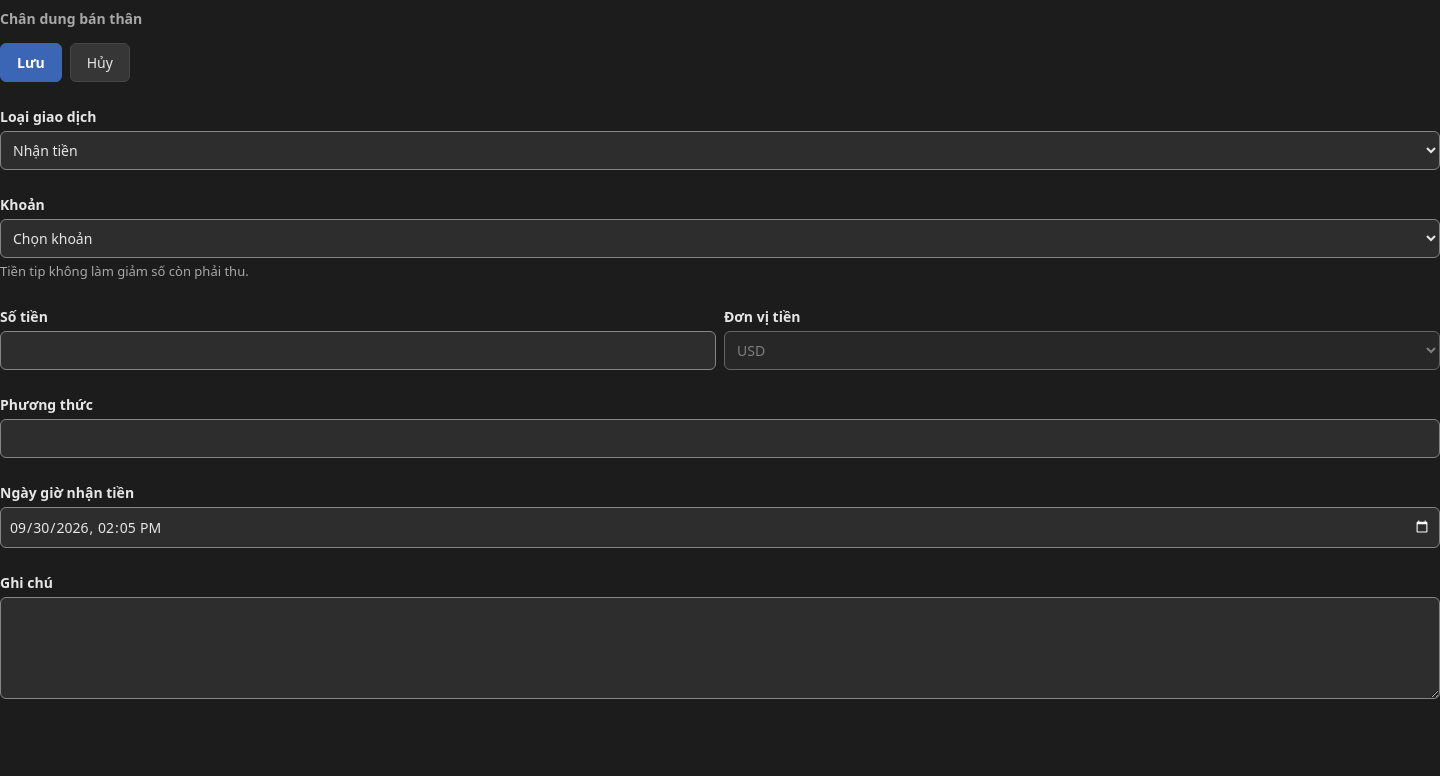
Test: page payment_form: saving › rejected system (400) → "Chưa lưu được" with the message; the draft kept; no field has the text cursor; no navigation
This screenshot has width=1440, height=776.
Check: the field labelled "Số tiền" is shown, box x1=0 y1=330 x2=716 y2=370
Select "Hoàn tiền cho khách" in the dropdown labelled "Loại giao dịch" at (720, 150), box x1=0 y1=131 x2=1439 y2=170
Select "Tiền tip" in the dropdown labelled "Khoản" at (720, 238), box x1=0 y1=219 x2=1439 y2=258
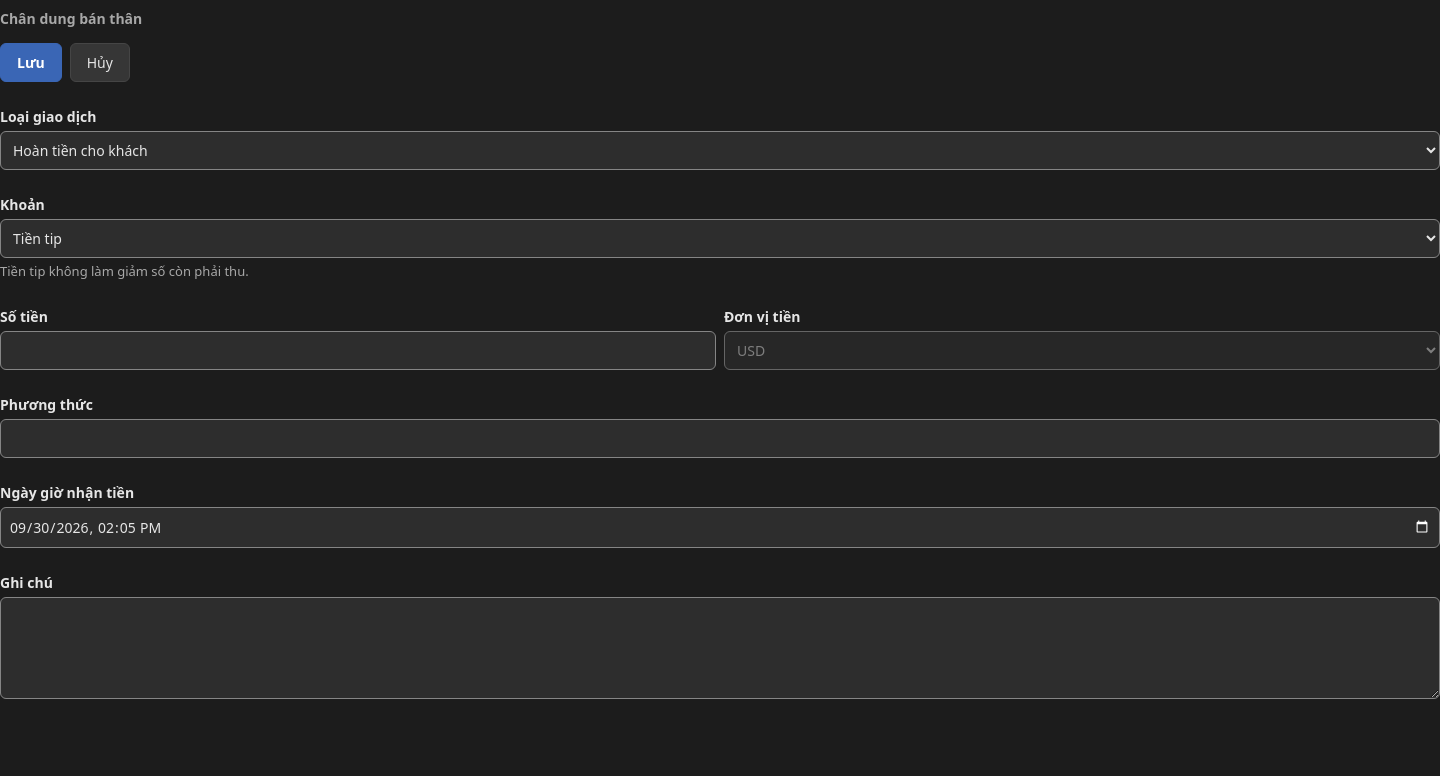
Type "12,50" into the field labelled "Số tiền" at (358, 350), box x1=0 y1=330 x2=716 y2=370
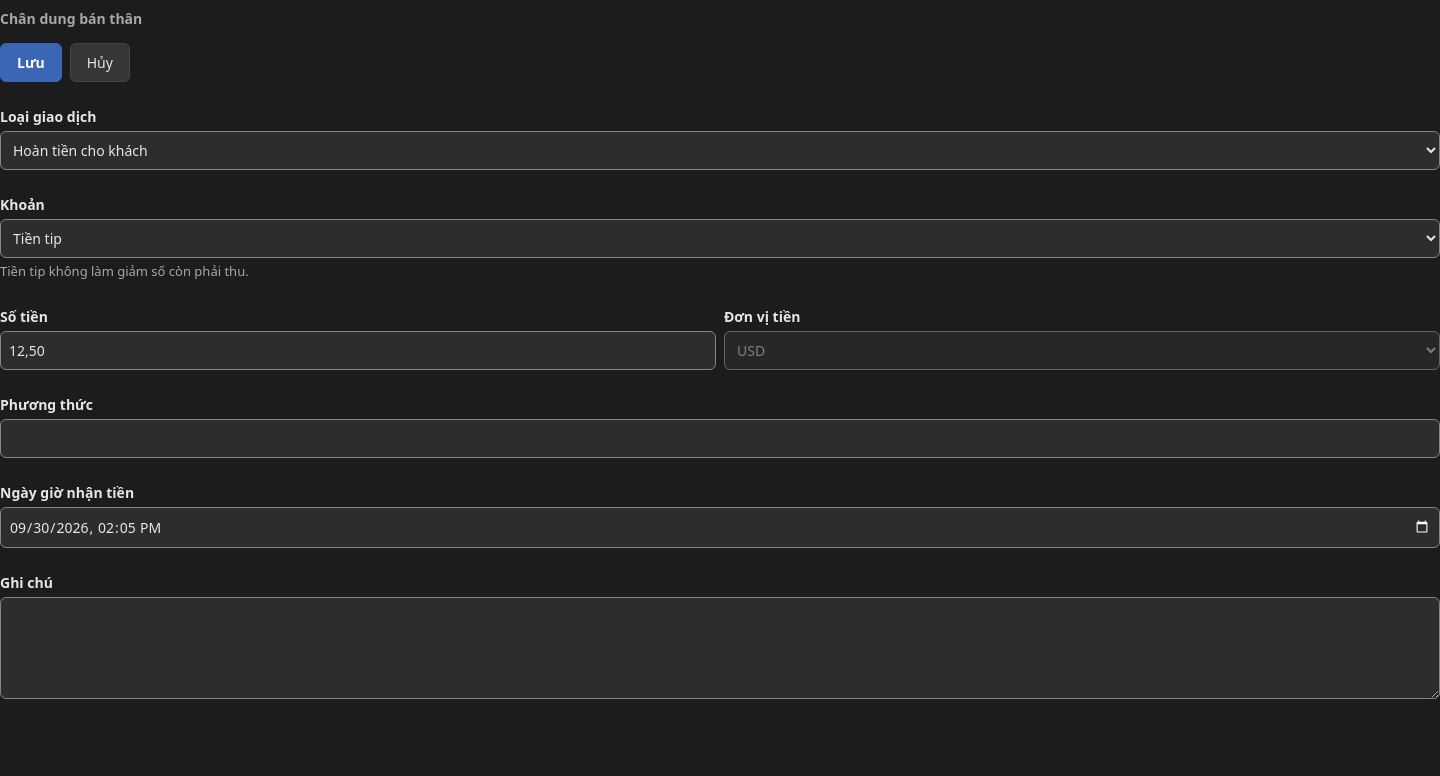
Type "PayPal" into the field labelled "Phương thức" at (720, 438), box x1=0 y1=418 x2=1439 y2=458
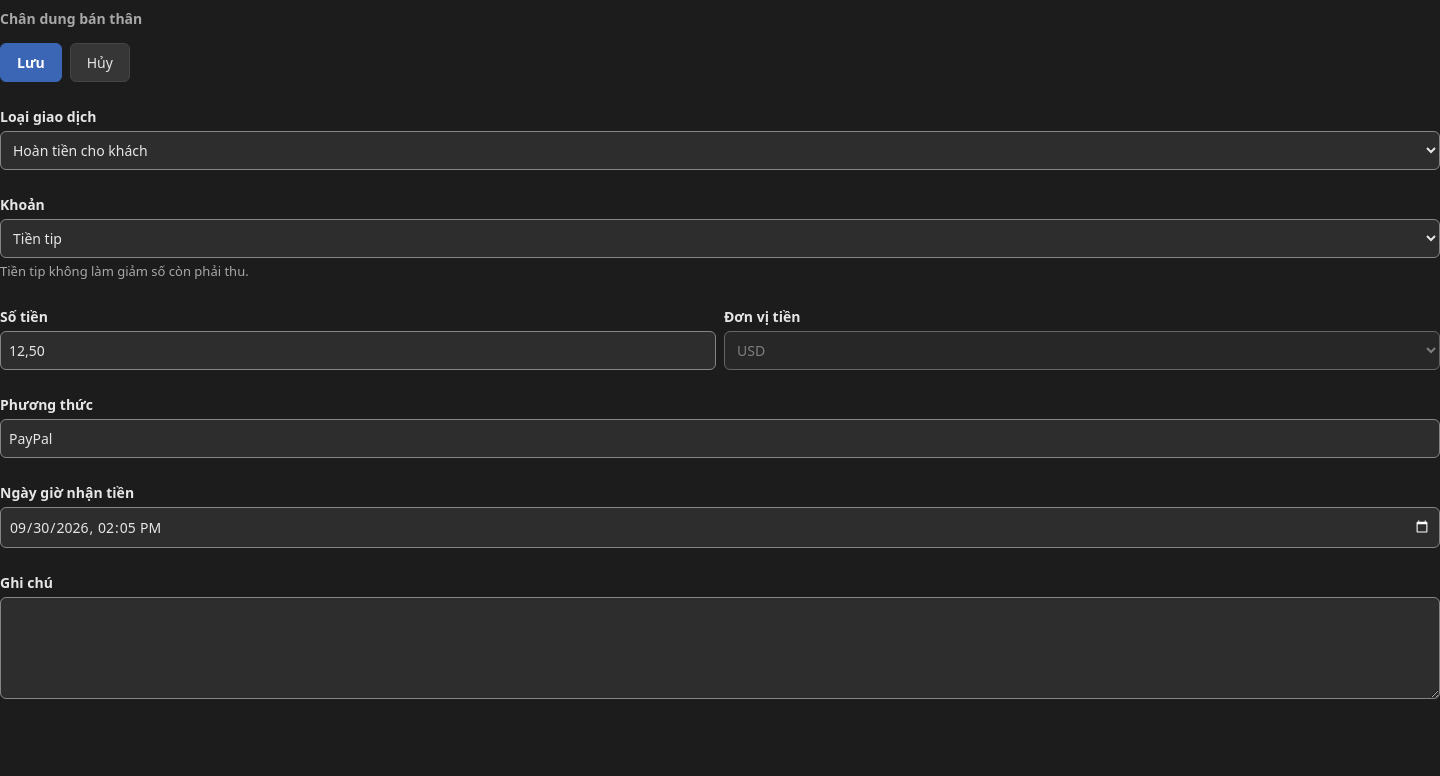
Replace the text in the field labelled "Ngày giờ nhận tiền" with "2026-09-28T08:30" at (720, 527), box x1=0 y1=506 x2=1439 y2=548
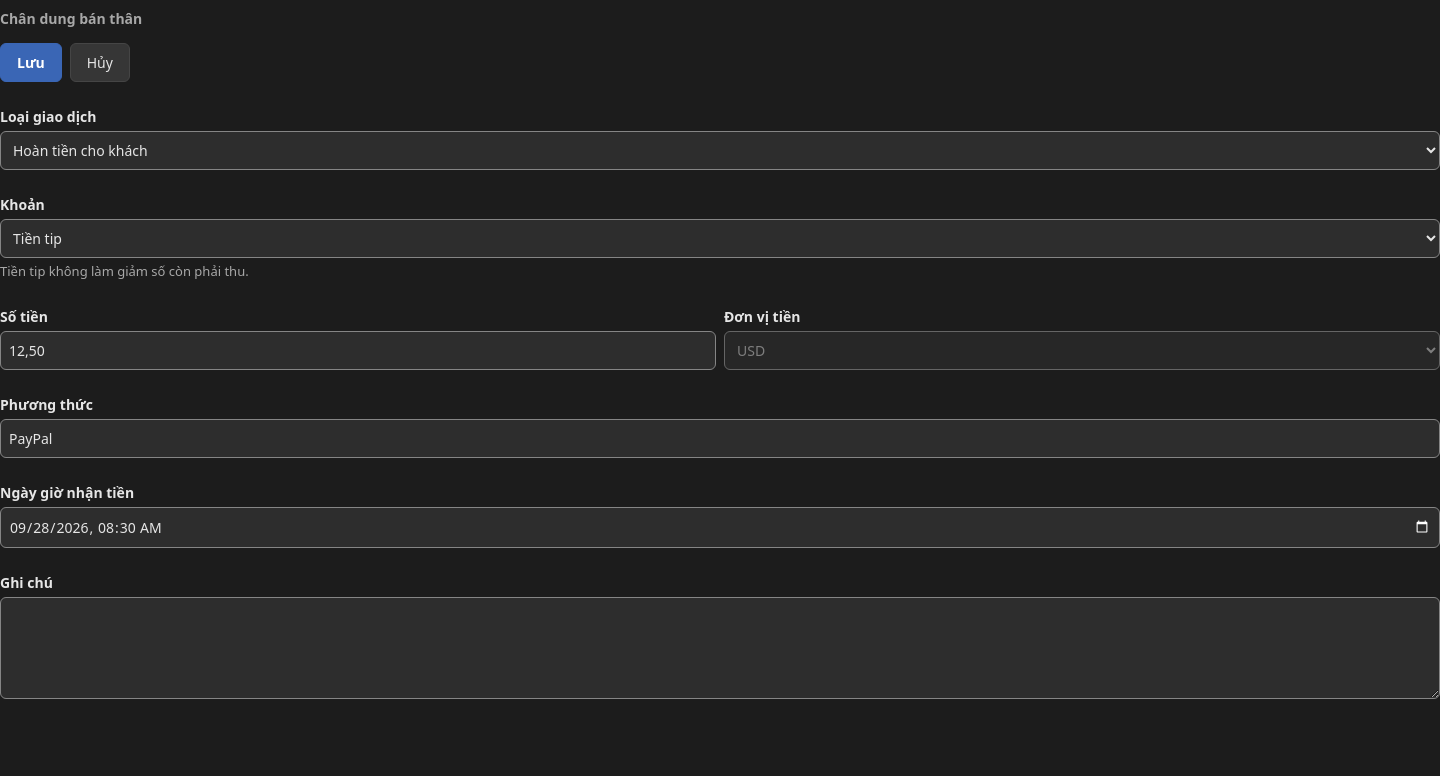
Type "Đợt hai" into the text box labelled "Ghi chú" at (720, 648), box x1=0 y1=596 x2=1439 y2=698
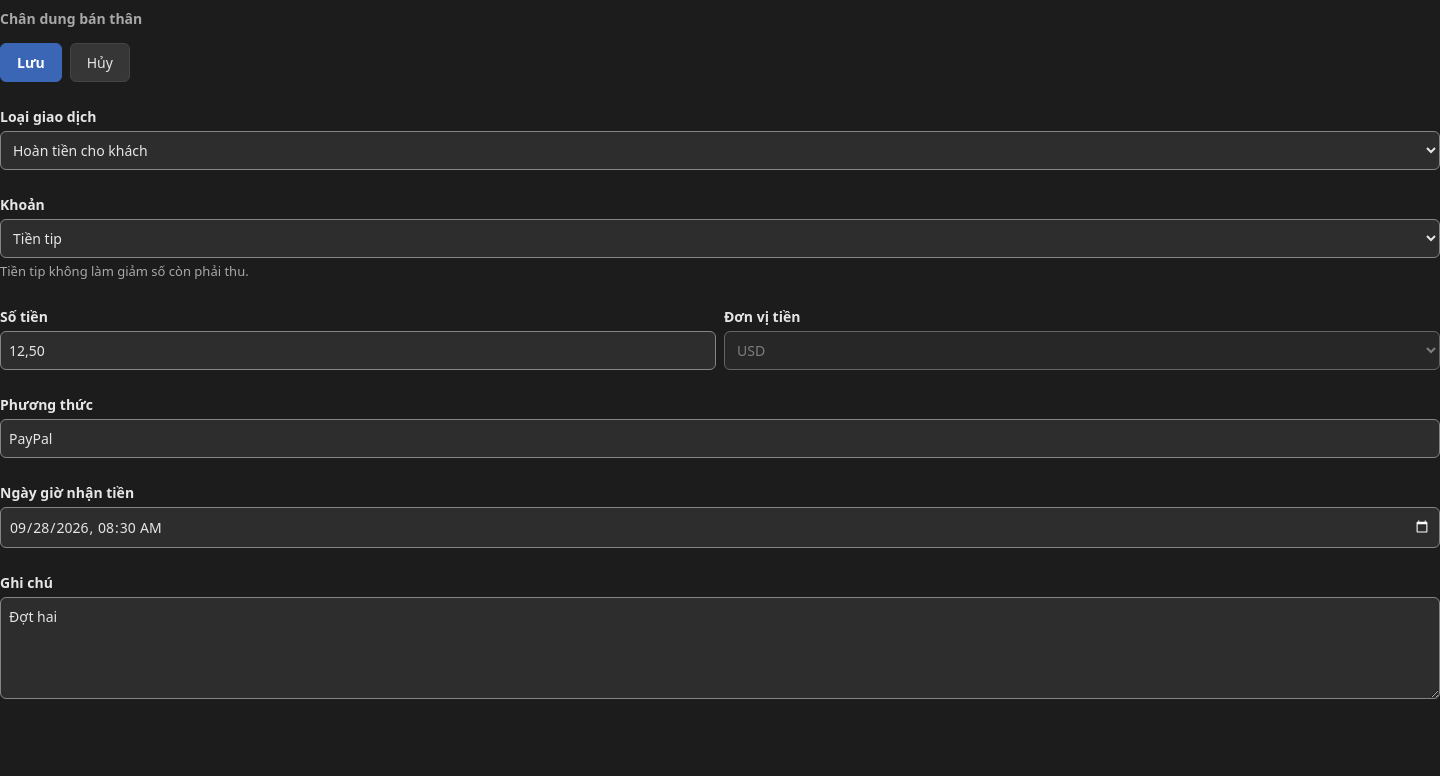
Click the button "Lưu" at (31, 62), box x1=0 y1=43 x2=62 y2=82
(page scrolled)
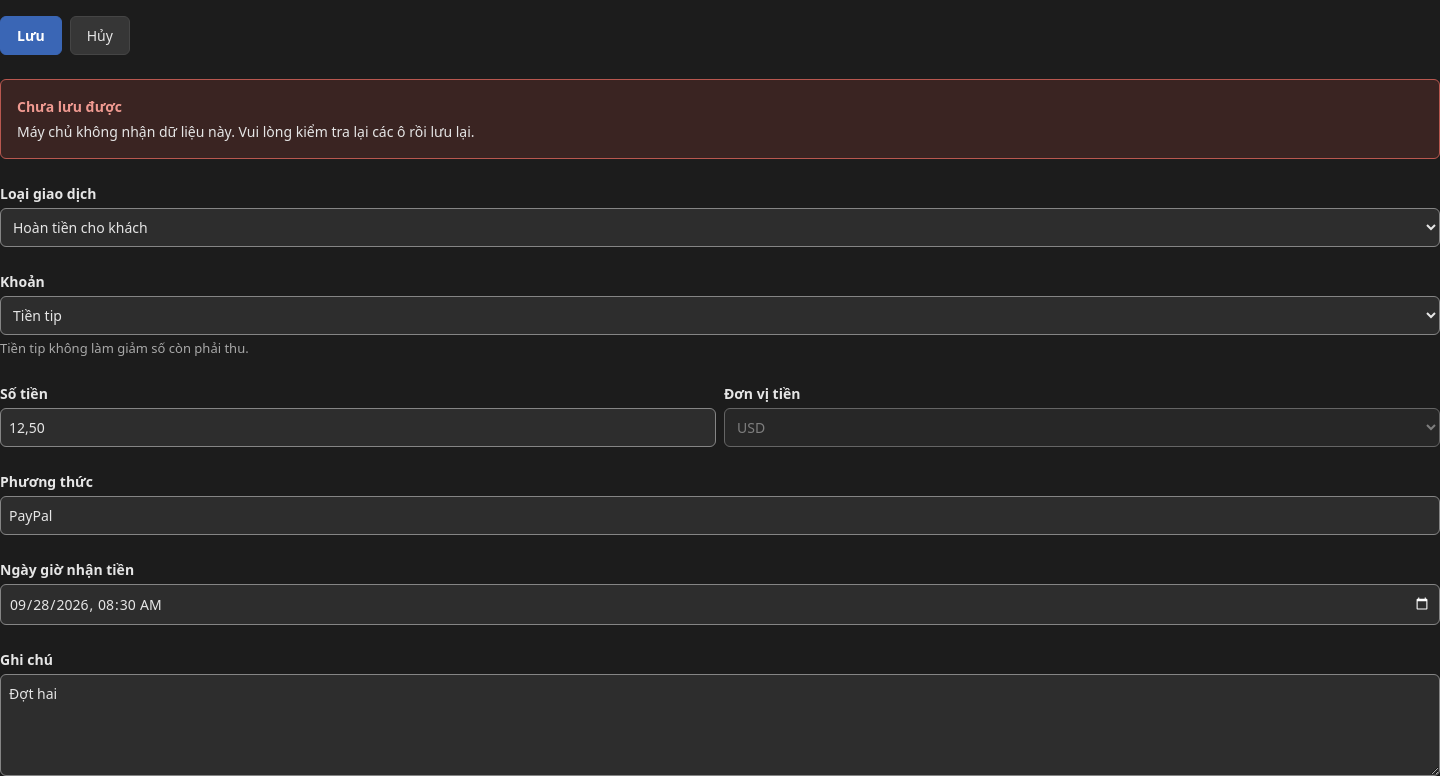
Check: the message shows "Chưa lưu được", box x1=17 y1=97 x2=122 y2=116
Check: the message shows "Máy chủ không nhận dữ liệu này. Vui lòng kiểm tra lại các ô rồi lưu lại.", box x1=17 y1=122 x2=475 y2=141
